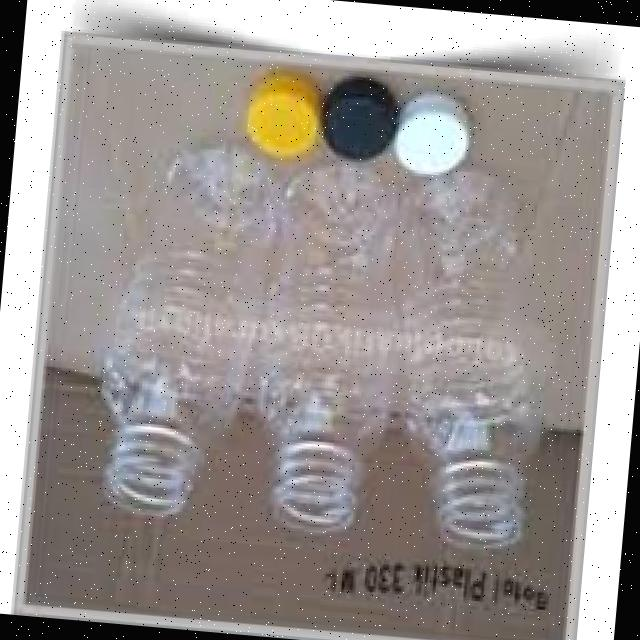bottle: (372, 174, 576, 554), (98, 136, 260, 528), (234, 168, 396, 536)
cap: (320, 75, 400, 167), (392, 88, 474, 176), (241, 68, 323, 156)
